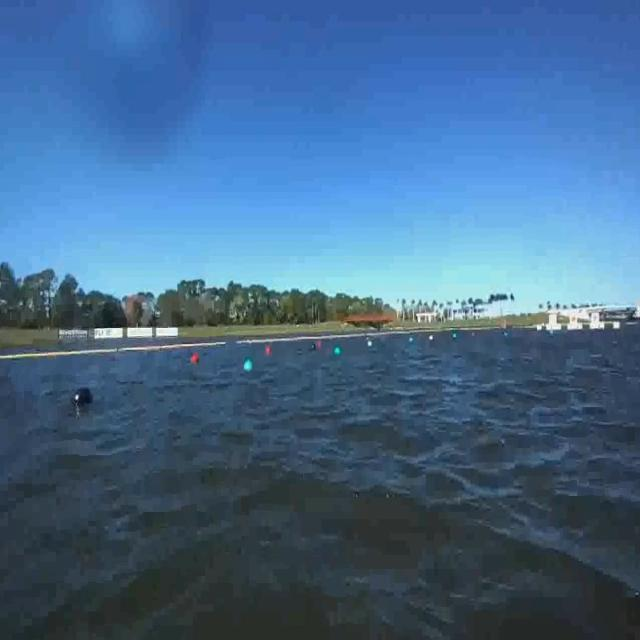black-buoy: (72, 386, 93, 407)
green-buoy: (242, 358, 251, 372), (336, 347, 343, 357)
red-buoy: (267, 346, 273, 356)
red-column-buoy: (190, 353, 198, 364)
